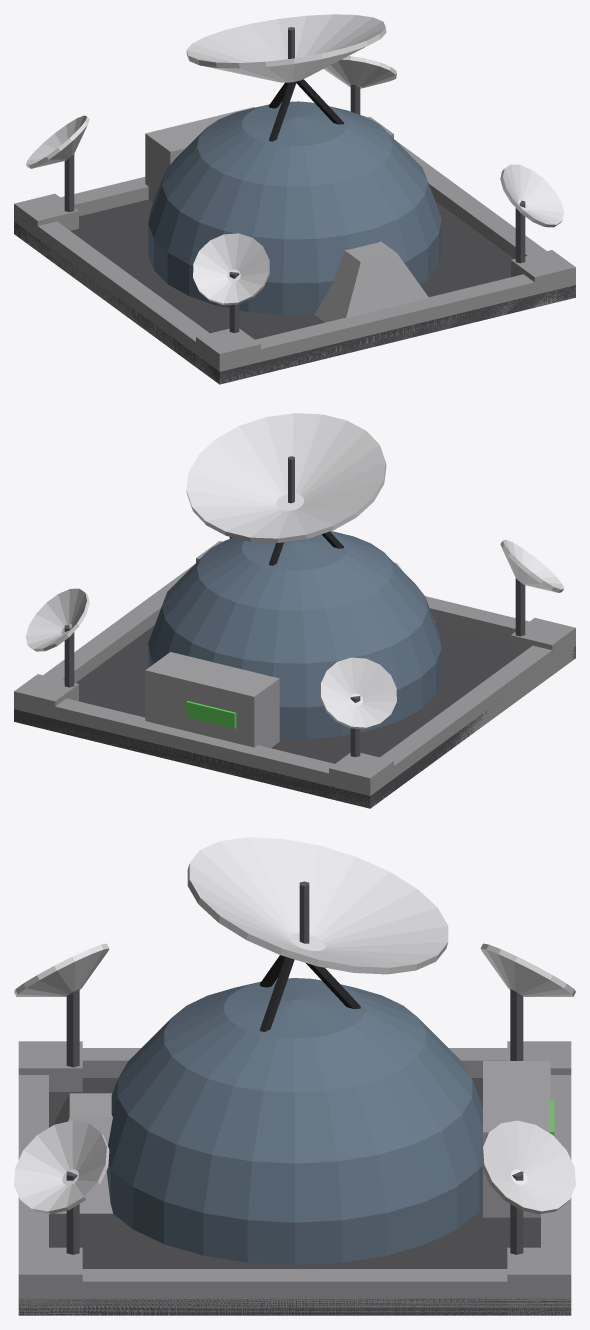
File: vge_scanner_cluster.obj
3 views of the same model, one above another, from view 1: azimuth 30°, elevation 25°; view 2: azimuth 150°, elevation 25°; view 3: azimuth 270°, elevation 25° (orthographic). The views are drawn at different scales.
Visible parts, largest first — view 1: vge_scanner_cluster_9, vge_scanner_cluster_0, vge_scanner_cluster_1, vge_scanner_cluster_13, vge_scanner_cluster_3, vge_scanner_cluster_25, vge_scanner_cluster_16, vge_scanner_cluster_4, vge_scanner_cluster_20, vge_scanner_cluster_23, vge_scanner_cluster_2, vge_scanner_cluster_5 (+8 smaller); view 2: vge_scanner_cluster_9, vge_scanner_cluster_13, vge_scanner_cluster_0, vge_scanner_cluster_23, vge_scanner_cluster_2, vge_scanner_cluster_3, vge_scanner_cluster_18, vge_scanner_cluster_4, vge_scanner_cluster_22, vge_scanner_cluster_1, vge_scanner_cluster_6, vge_scanner_cluster_8 (+5 smaller); view 3: vge_scanner_cluster_9, vge_scanner_cluster_13, vge_scanner_cluster_4, vge_scanner_cluster_0, vge_scanner_cluster_20, vge_scanner_cluster_22, vge_scanner_cluster_23, vge_scanner_cluster_1, vge_scanner_cluster_2, vge_scanner_cluster_7, vge_scanner_cluster_8, vge_scanner_cluster_25 (+12 smaller).
Part boxes in pixels (x1=…): vge_scanner_cluster_9: x1=148, y1=101, x2=441, y2=314; vge_scanner_cluster_0: x1=14, y1=199, x2=575, y2=384; vge_scanner_cluster_1: x1=208, y1=272, x2=575, y2=384; vge_scanner_cluster_13: x1=186, y1=14, x2=386, y2=82; vge_scanner_cluster_3: x1=25, y1=217, x2=209, y2=375; vge_scanner_cluster_25: x1=314, y1=241, x2=428, y2=322; vge_scanner_cluster_16: x1=193, y1=233, x2=269, y2=305; vge_scanner_cluster_4: x1=396, y1=141, x2=546, y2=258; vge_scanner_cluster_20: x1=500, y1=164, x2=564, y2=227; vge_scanner_cluster_23: x1=145, y1=107, x2=254, y2=202; vge_scanner_cluster_2: x1=14, y1=177, x2=148, y2=241; vge_scanner_cluster_5: x1=196, y1=328, x2=260, y2=383; vge_scanner_cluster_9: x1=148, y1=531, x2=441, y2=739; vge_scanner_cluster_13: x1=186, y1=413, x2=386, y2=542; vge_scanner_cluster_0: x1=14, y1=622, x2=575, y2=808; vge_scanner_cluster_23: x1=145, y1=652, x2=279, y2=747; vge_scanner_cluster_2: x1=14, y1=698, x2=379, y2=808; vge_scanner_cluster_3: x1=380, y1=641, x2=564, y2=780; vge_scanner_cluster_18: x1=320, y1=657, x2=396, y2=729; vge_scanner_cluster_4: x1=43, y1=564, x2=194, y2=682; vge_scanner_cluster_22: x1=25, y1=588, x2=89, y2=651; vge_scanner_cluster_1: x1=425, y1=596, x2=575, y2=665; vge_scanner_cluster_6: x1=329, y1=753, x2=393, y2=807; vge_scanner_cluster_8: x1=14, y1=674, x2=78, y2=719; vge_scanner_cluster_9: x1=106, y1=978, x2=482, y2=1265; vge_scanner_cluster_13: x1=187, y1=837, x2=448, y2=974; vge_scanner_cluster_4: x1=49, y1=1269, x2=540, y2=1315; vge_scanner_cluster_0: x1=18, y1=1078, x2=571, y2=1315; vge_scanner_cluster_20: x1=14, y1=1120, x2=109, y2=1214; vge_scanner_cluster_22: x1=480, y1=1120, x2=575, y2=1214; vge_scanner_cluster_23: x1=483, y1=1061, x2=550, y2=1217; vge_scanner_cluster_1: x1=18, y1=1075, x2=48, y2=1315; vge_scanner_cluster_2: x1=541, y1=1075, x2=571, y2=1315; vge_scanner_cluster_7: x1=18, y1=1247, x2=82, y2=1315; vge_scanner_cluster_8: x1=507, y1=1247, x2=571, y2=1315; vge_scanner_cluster_25: x1=52, y1=1093, x2=112, y2=1213.
Bounding box in the file's own units: 2.99 × 1.92 × 2.99.
